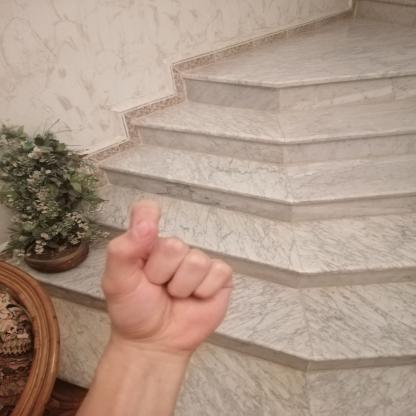FAA: (86, 185, 247, 363)
